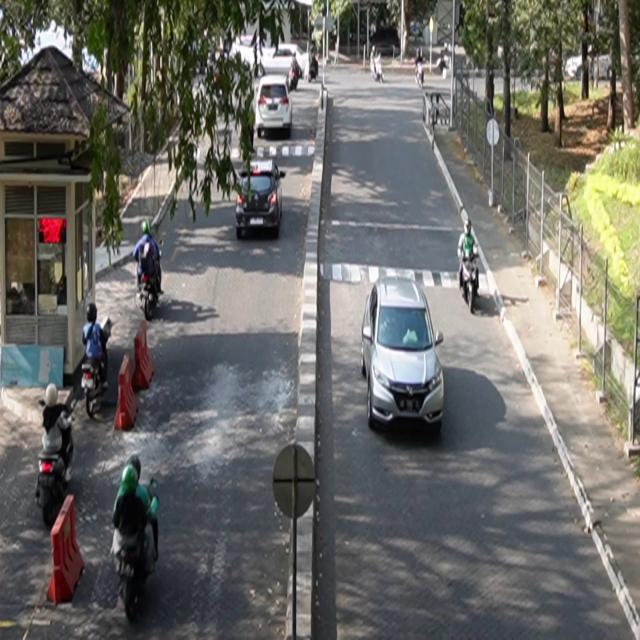car: (361, 275, 446, 435), (236, 160, 287, 241)
